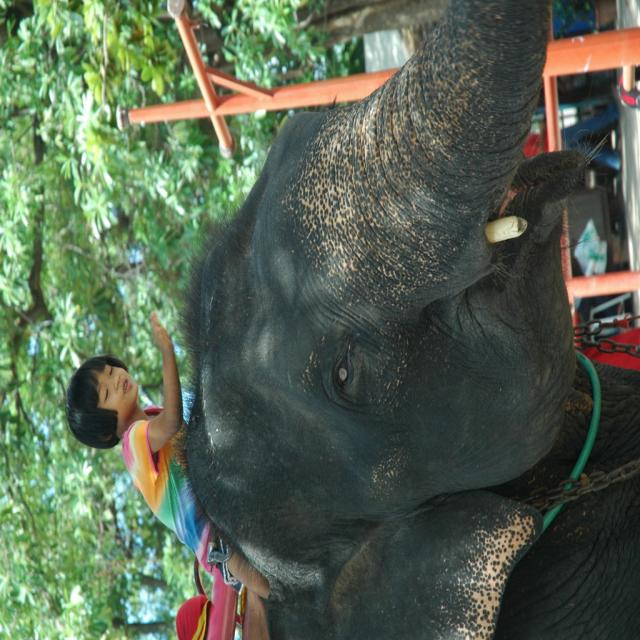elephant: (179, 0, 639, 639)
